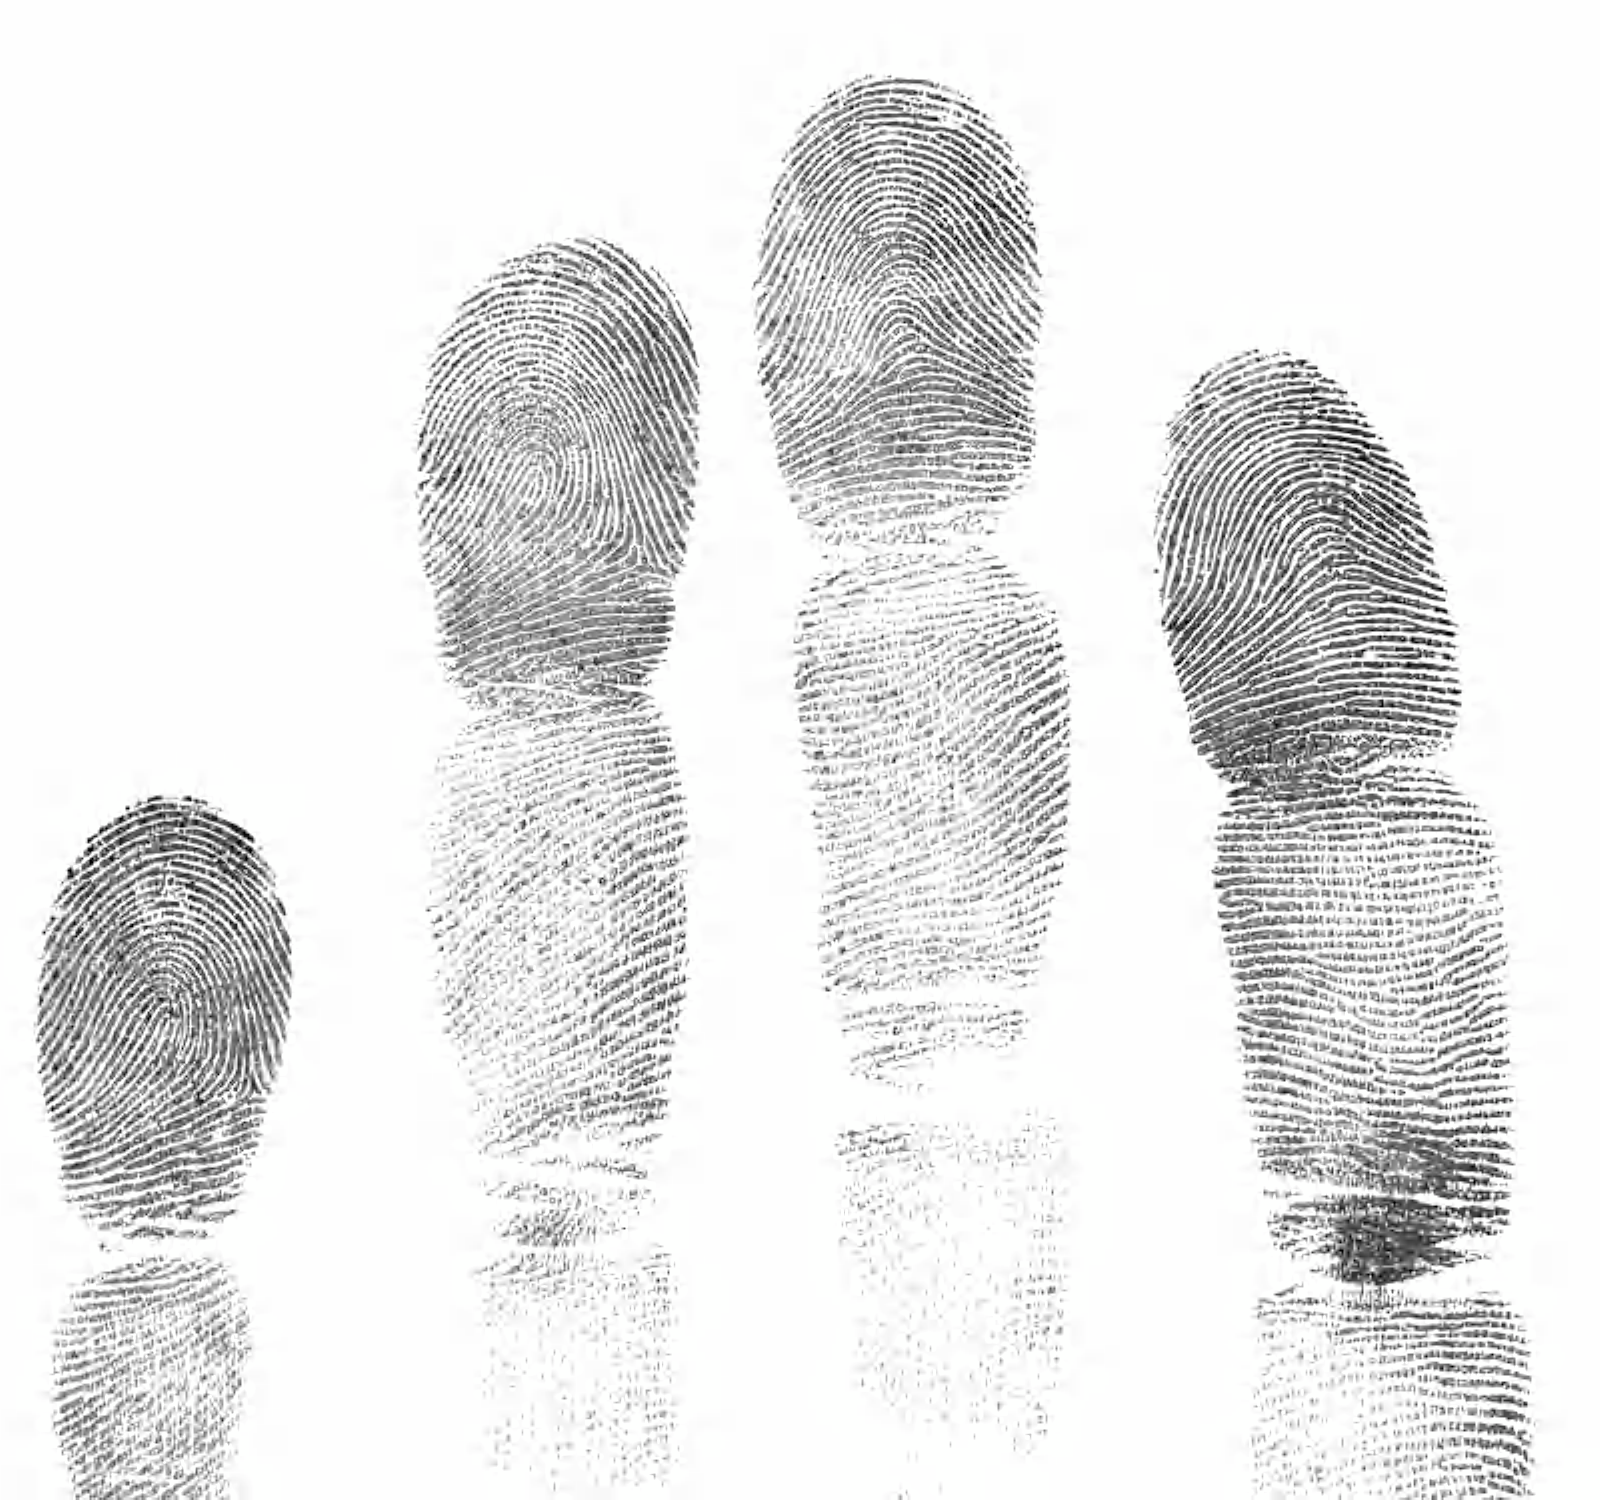distal: (1128, 331, 1487, 785), (739, 54, 1064, 551), (398, 214, 708, 722), (16, 785, 336, 1234)
proximal: (781, 547, 1091, 1076), (1193, 778, 1542, 1242), (421, 694, 725, 1208), (38, 1231, 266, 1500)
